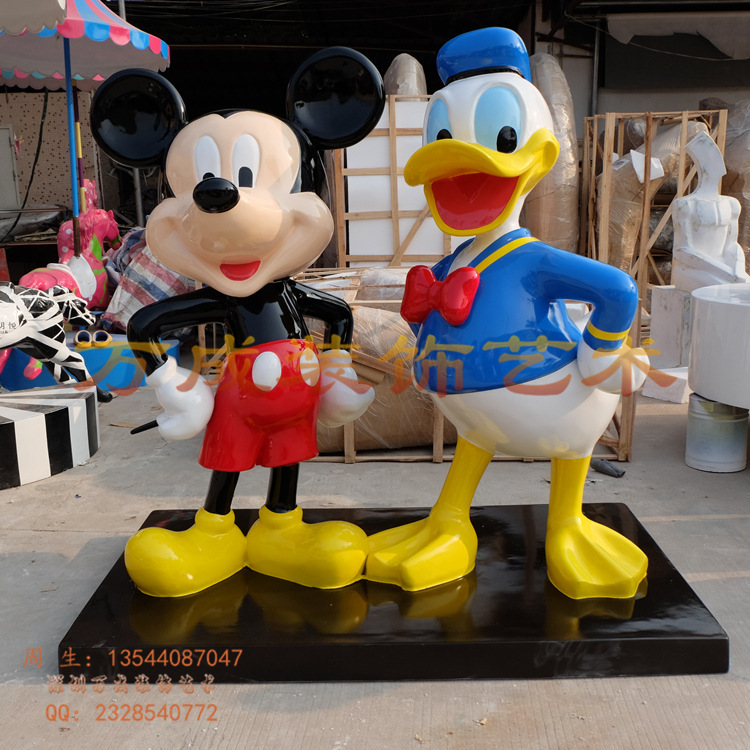Mickey: (86, 46, 390, 296)
